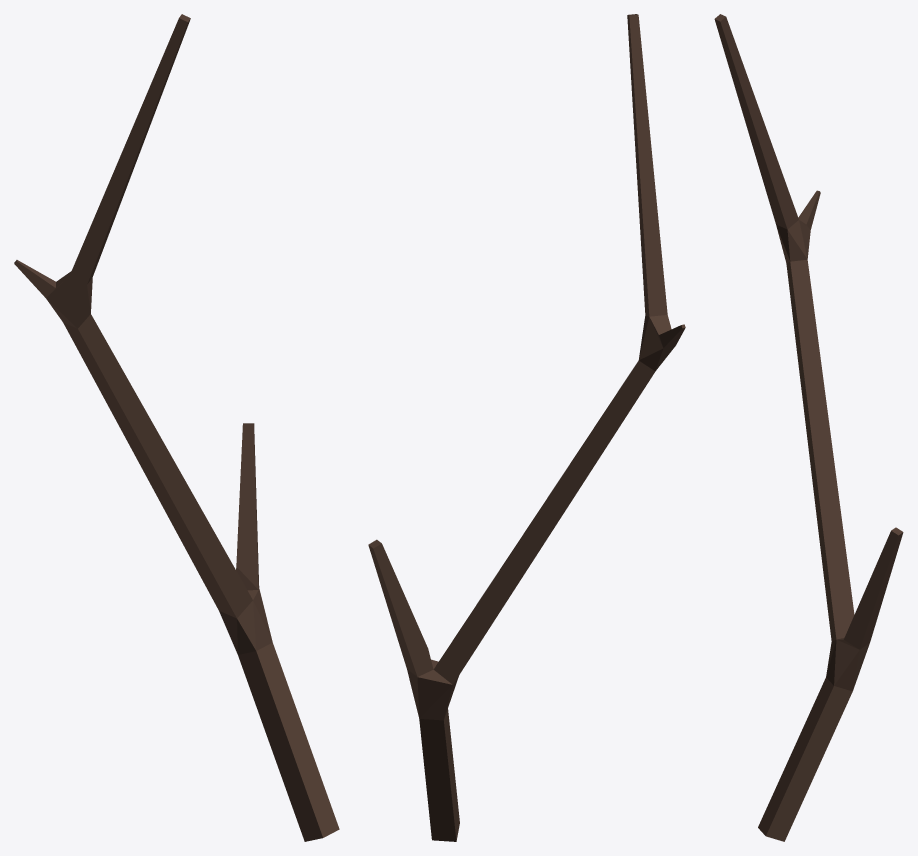
Rendered from stick_01_break.fbx.
The picture shows the model from 3 angles, left to right: view 1: azimuth 30°, elevation 25°; view 2: azimuth 150°, elevation 25°; view 3: azimuth 270°, elevation 25°; orthographic projection. The views are drawn at different scales.
Visible parts, largest first — view 1: stick_01; view 2: stick_01; view 3: stick_01.
Part boxes in pixels (bbox=[...]): stick_01: bbox=[14, 14, 339, 841]; stick_01: bbox=[368, 14, 685, 841]; stick_01: bbox=[714, 14, 903, 841].
Bounding box in the file's own units: 18.43 × 53.01 × 12.06.
